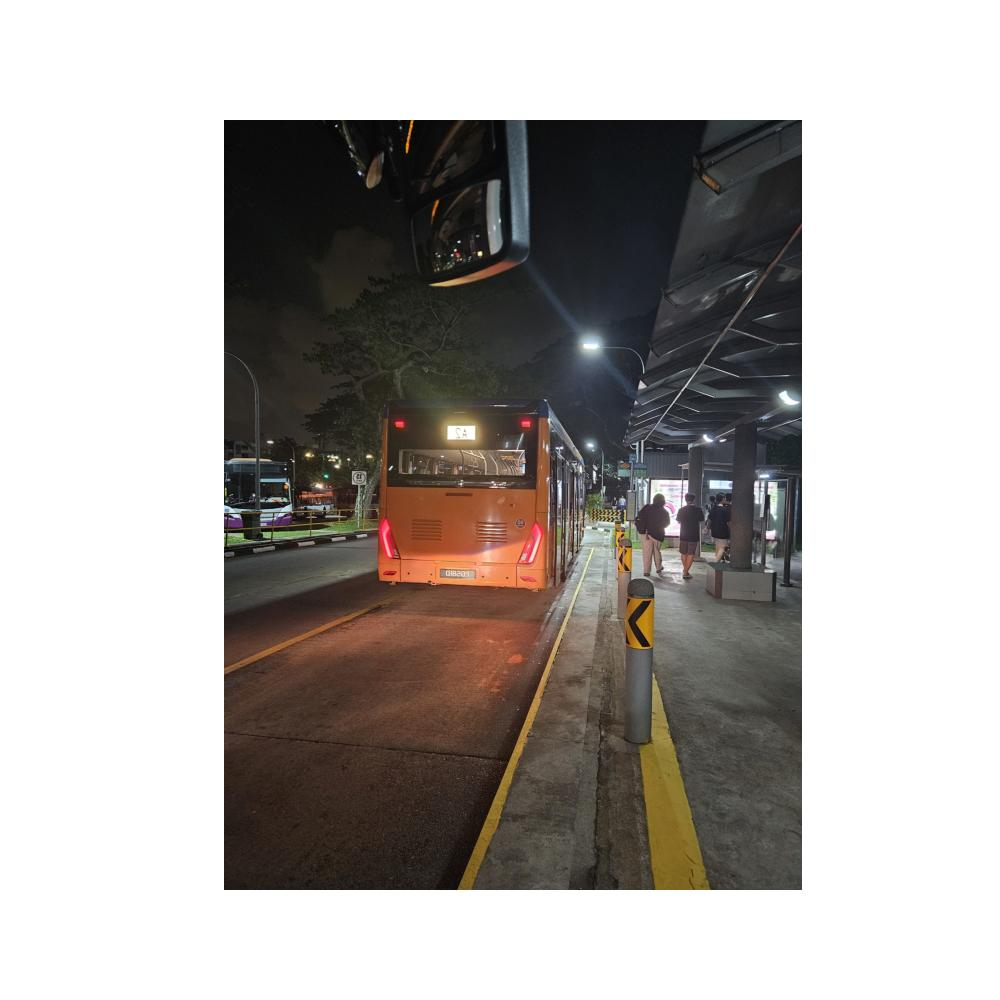bus: (374, 395, 586, 594)
